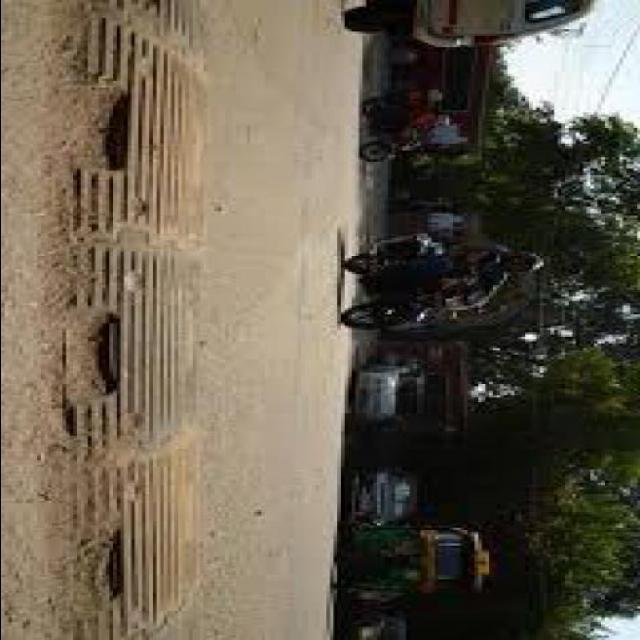Speed_Breaker: (27, 0, 219, 640), (41, 2, 209, 639)
